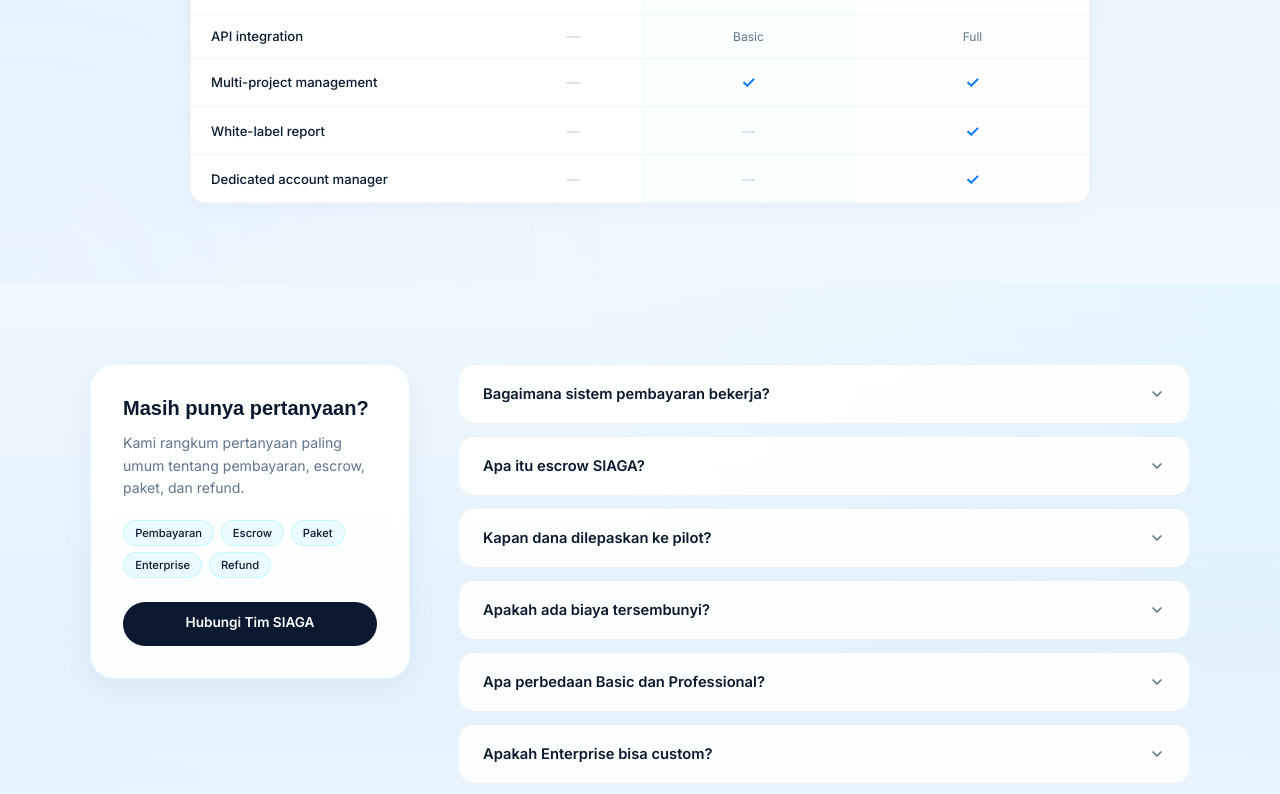
Test case: FAQ Knowledge Base › clicking an open FAQ item closes it (toggle self-inverse)
(page scrolled)
What coordinates should you click on to do the following:
click the button "Bagaimana sistem pembayaran bekerja?"
I would click on:
 (626, 394)
Its box is [459, 365, 1189, 423].
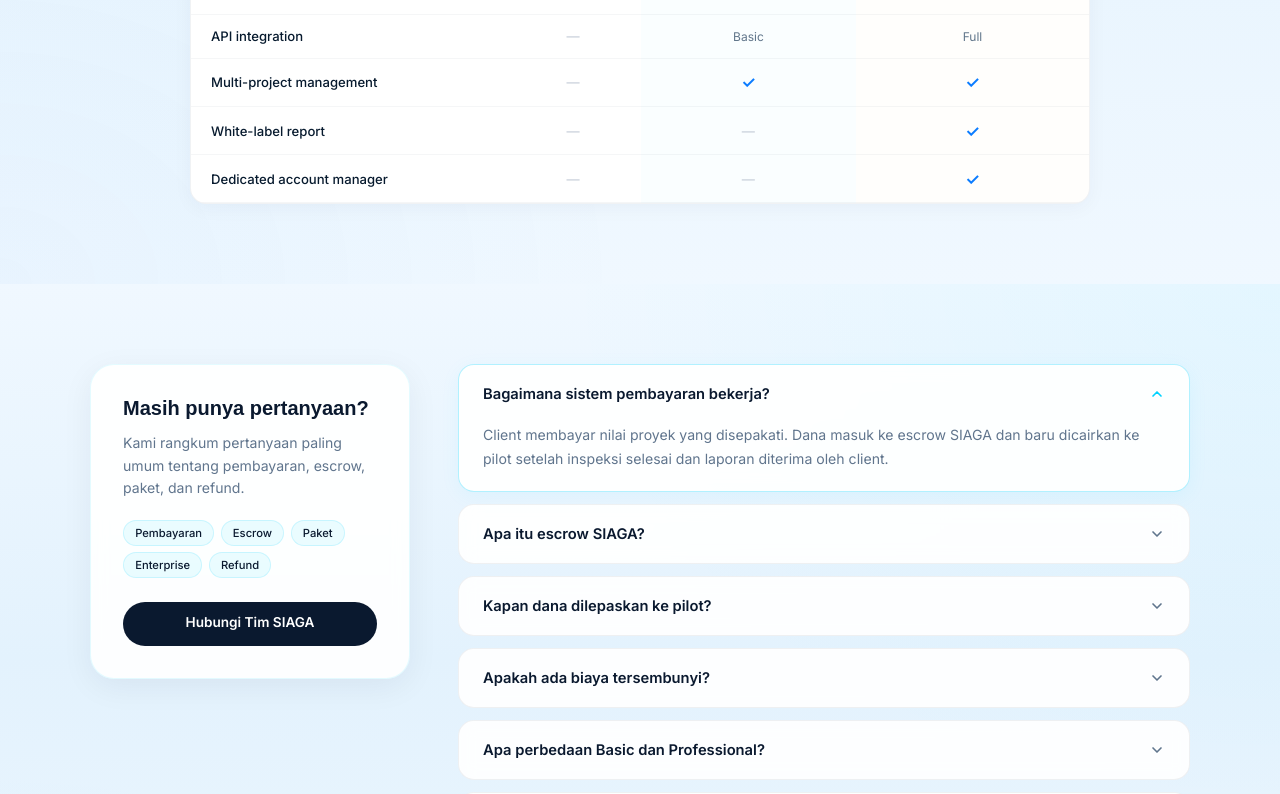
Result: the button "Bagaimana sistem pembayaran bekerja?" is expanded
What coordinates should you click on to do the following:
click the button "Bagaimana sistem pembayaran bekerja?"
I would click on:
 (626, 394)
Its box is [459, 365, 1189, 423].
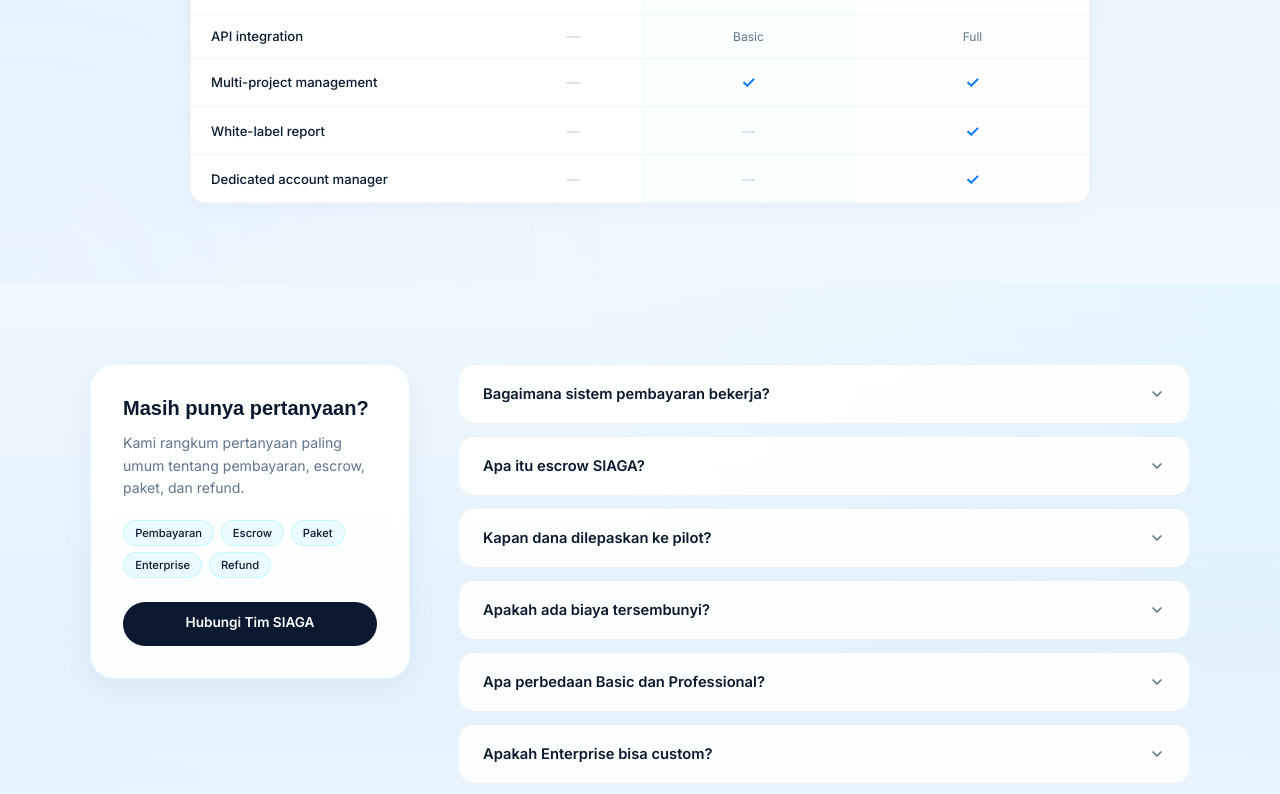
Result: the button "Bagaimana sistem pembayaran bekerja?" is collapsed at [459, 365, 1189, 423]
